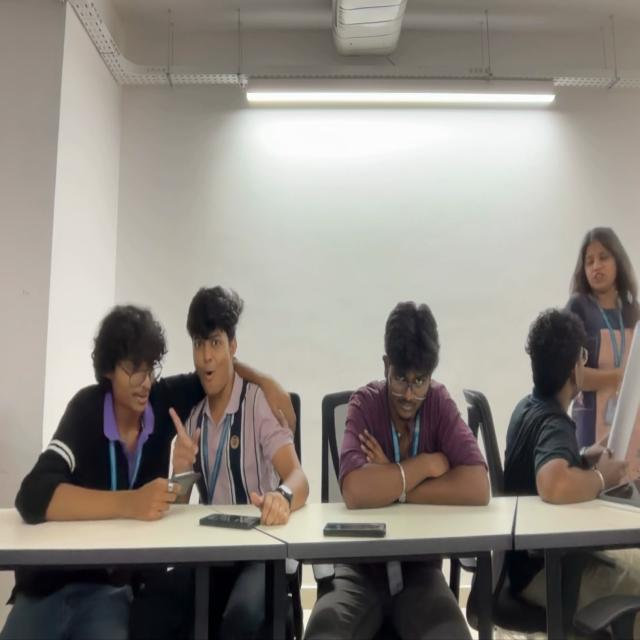Isolated: (340, 297, 489, 504)
socializing: (21, 289, 309, 516), (504, 227, 640, 499)
